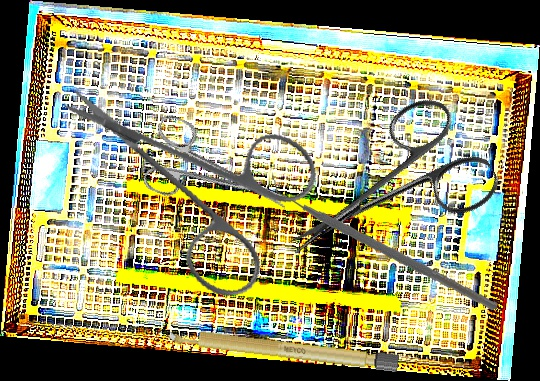Chopper: (271, 156, 498, 325)
Iris Scissors: (61, 44, 339, 322), (260, 85, 506, 303), (134, 112, 302, 241)
Scalpel Handle: (165, 325, 400, 373)
